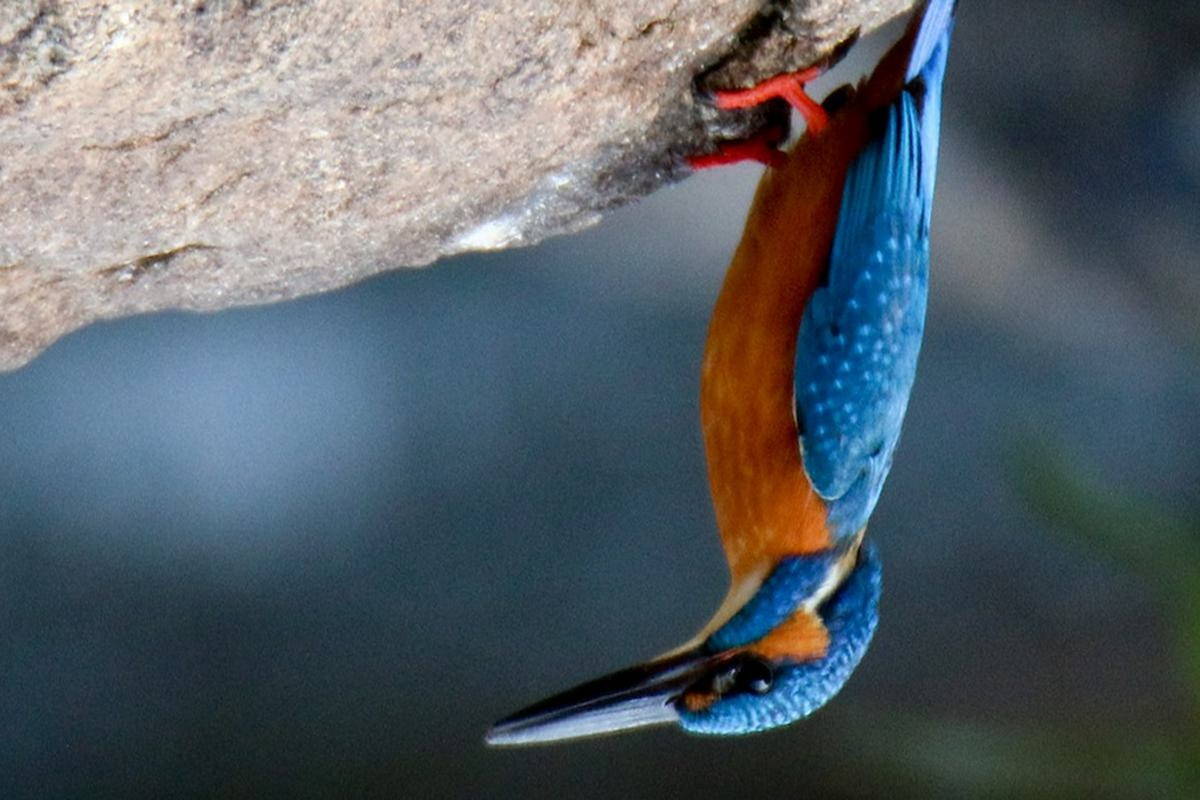kingfisher: (494, 6, 995, 777)
